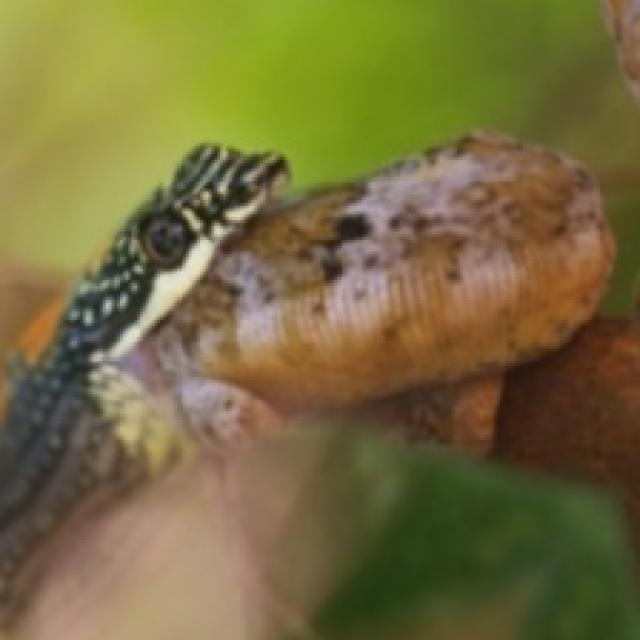paradise tree snake: (0, 134, 611, 637)
